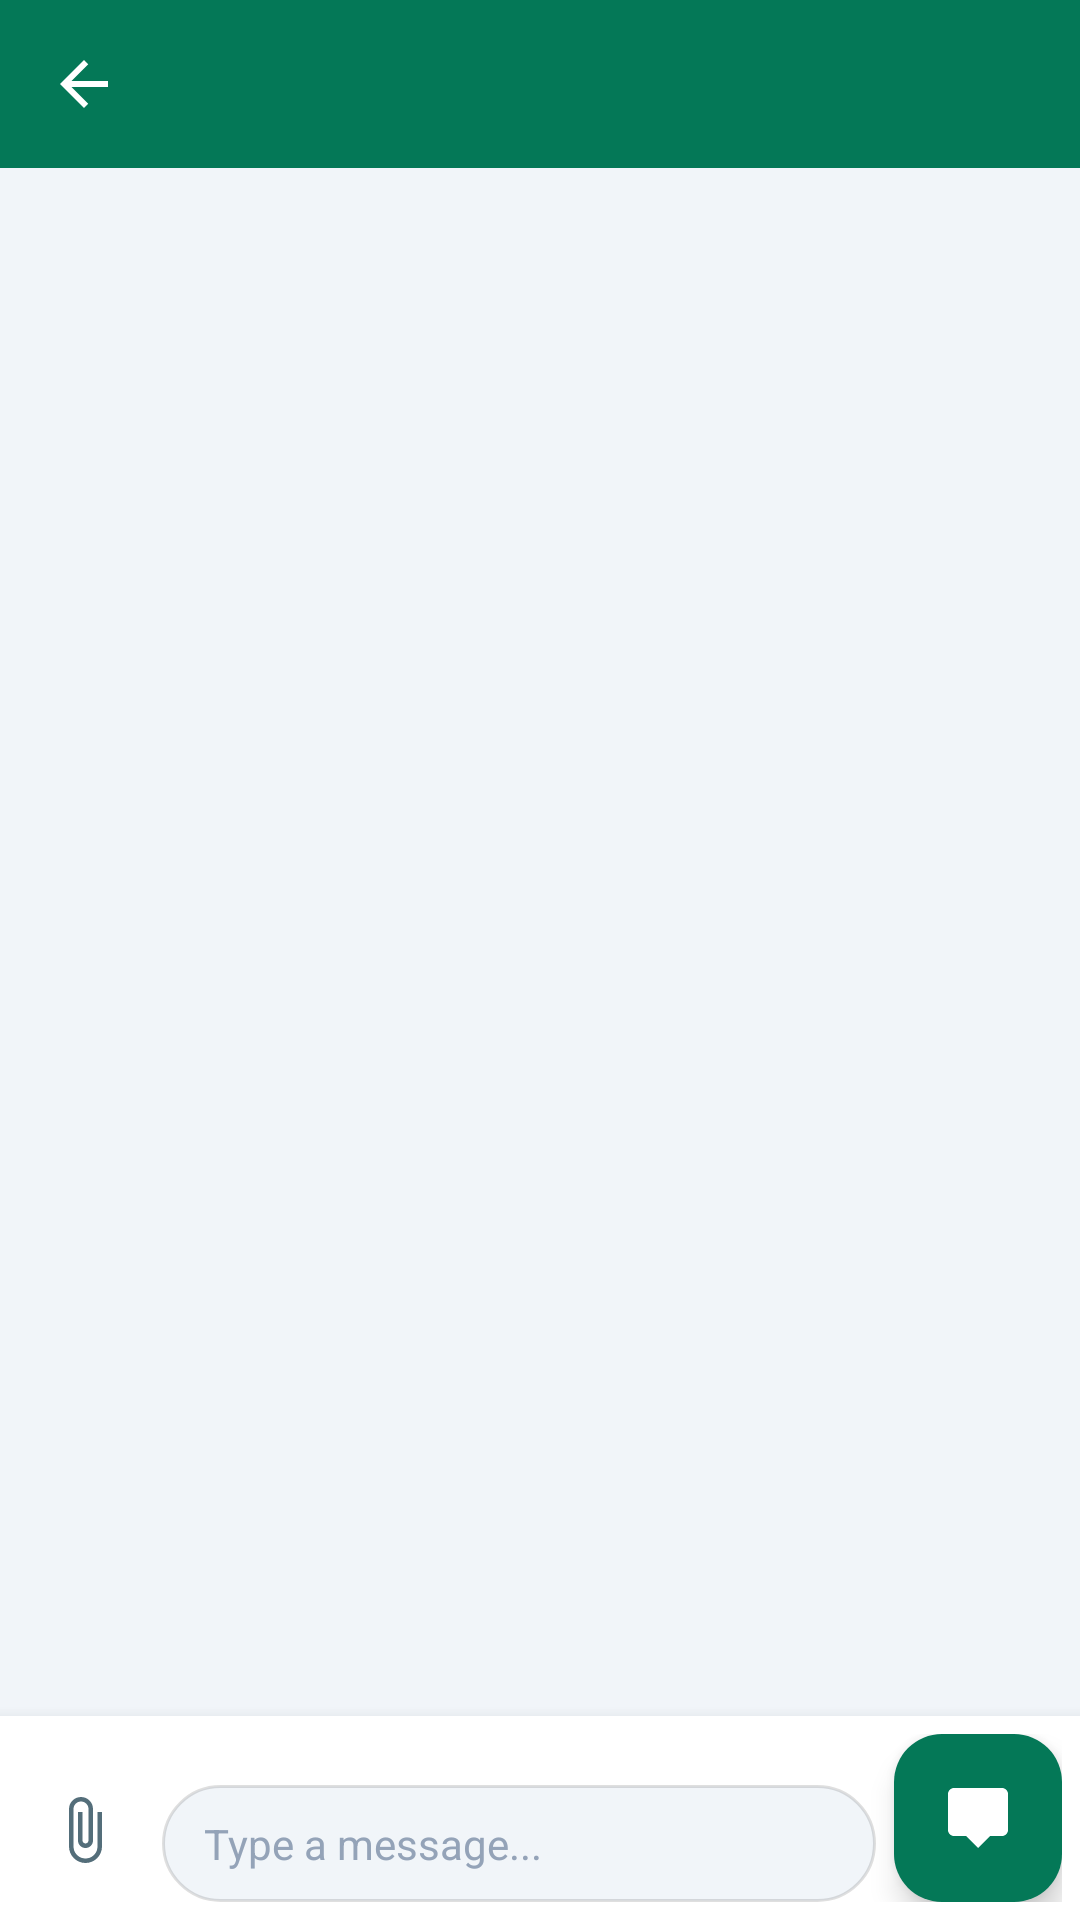

Point at icon controls on the screen. Image size 1080 × 1920, points as point (x, y).
Attach photo: point (85, 1830)
Back: point (84, 84)
